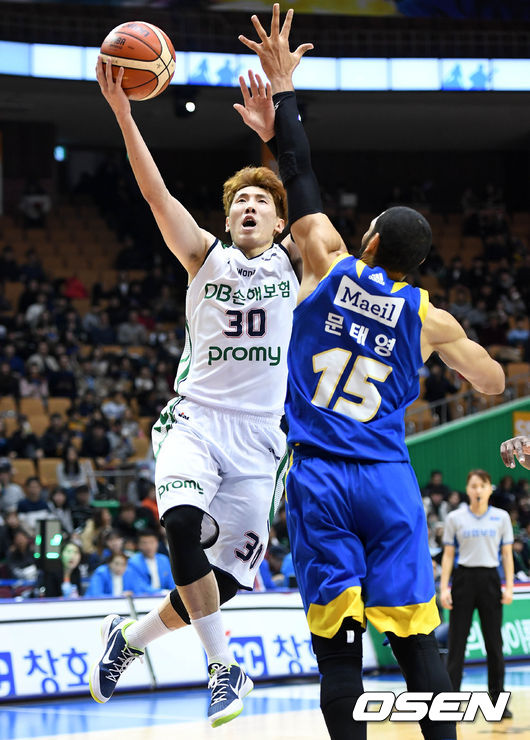ball: (92, 12, 182, 102)
defense: (231, 0, 494, 737)
shoot: (64, 7, 306, 737)
